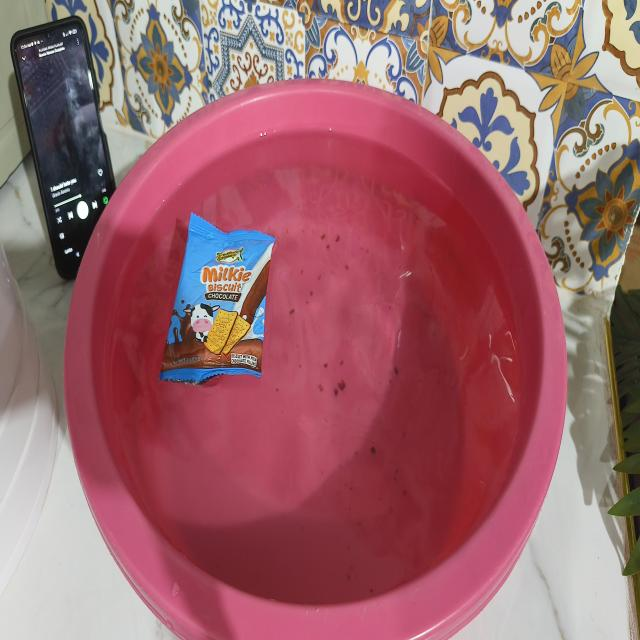Plastic Wrapper: (159, 213, 274, 385)
